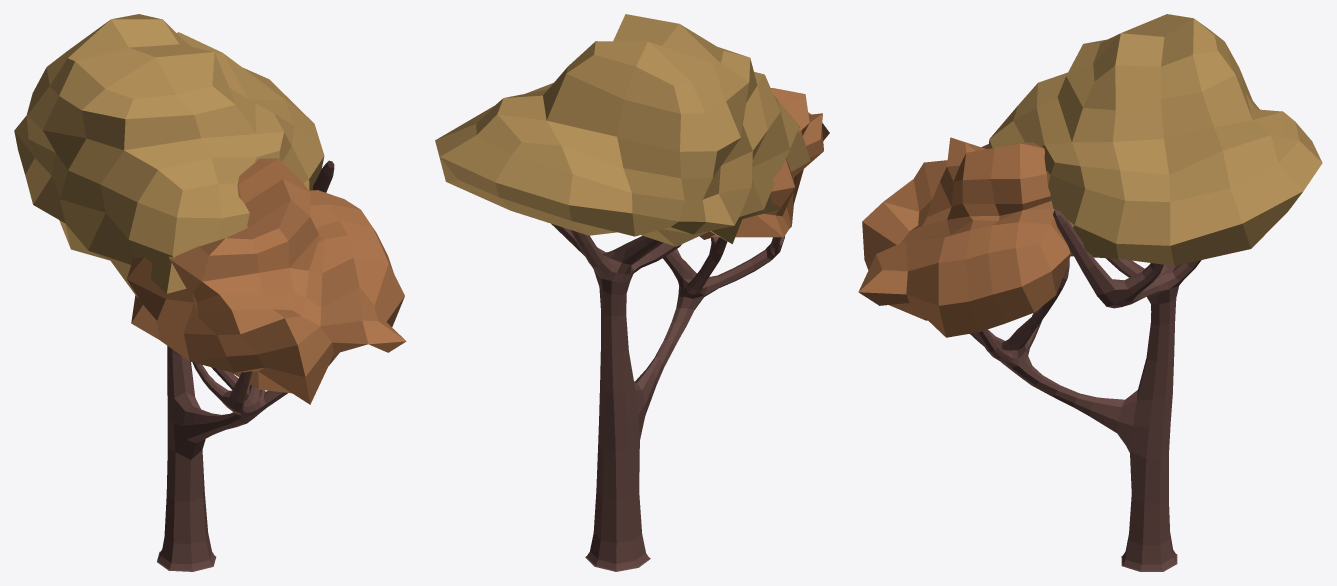
Rendered from CommonTree_Autumn_2.gltf.
The picture shows the model from 3 angles, left to right: view 1: azimuth 30°, elevation 25°; view 2: azimuth 150°, elevation 25°; view 3: azimuth 270°, elevation 25°; orthographic projection. The views are drawn at different scales.
Parts seen in each view (by area): view 1: CommonTree_Autumn_2; view 2: CommonTree_Autumn_2; view 3: CommonTree_Autumn_2.
Boxes of the visible parts, x1=… form: CommonTree_Autumn_2: x1=14, y1=14, x2=406, y2=571; CommonTree_Autumn_2: x1=435, y1=14, x2=829, y2=571; CommonTree_Autumn_2: x1=858, y1=14, x2=1322, y2=571.
Bounding box in the file's own units: 1.66 × 3.12 × 2.54.
